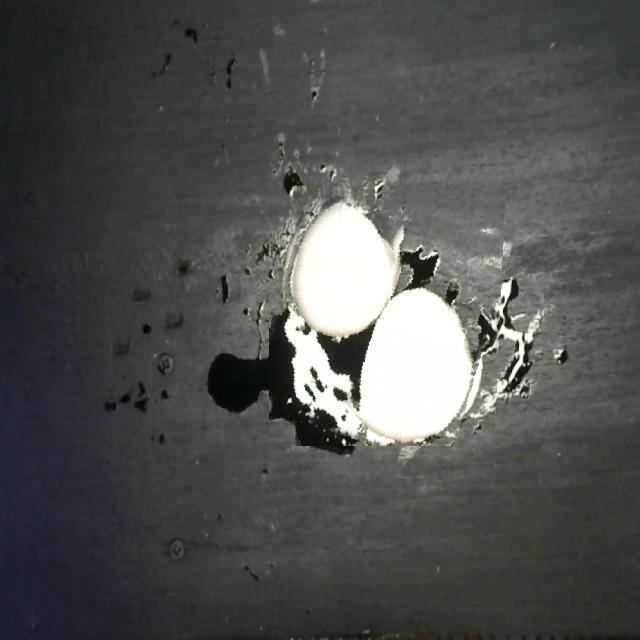biodegradable: (269, 187, 505, 446)
